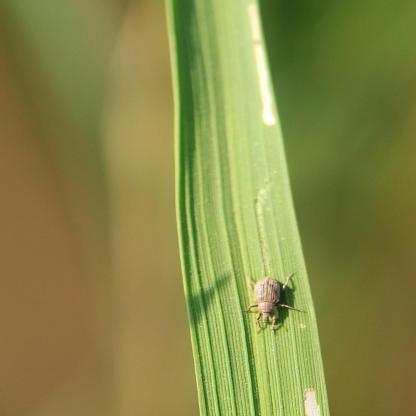rice-bug: (240, 272, 302, 334)
